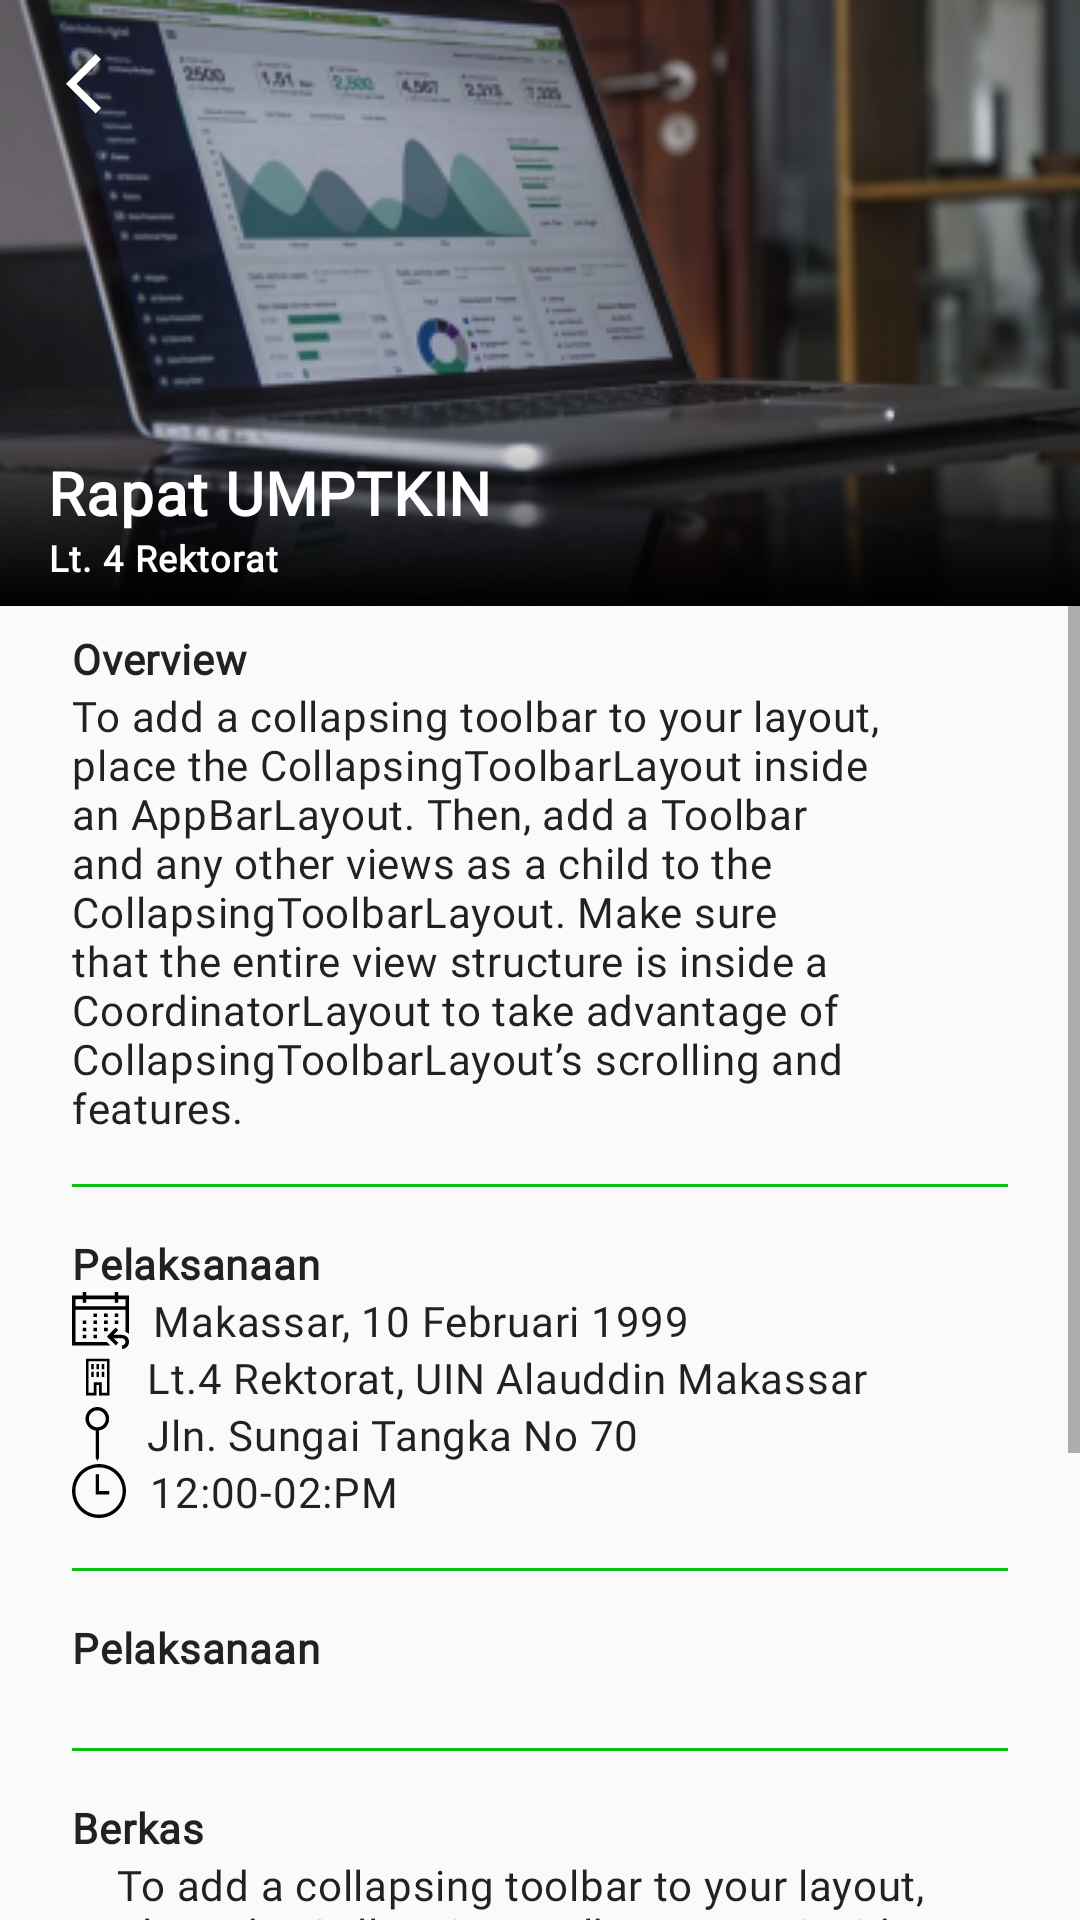

Screen size 1080×1920. Icon name, then its center in pixels as (x=x, y=y):
back nav: (x=84, y=84)
